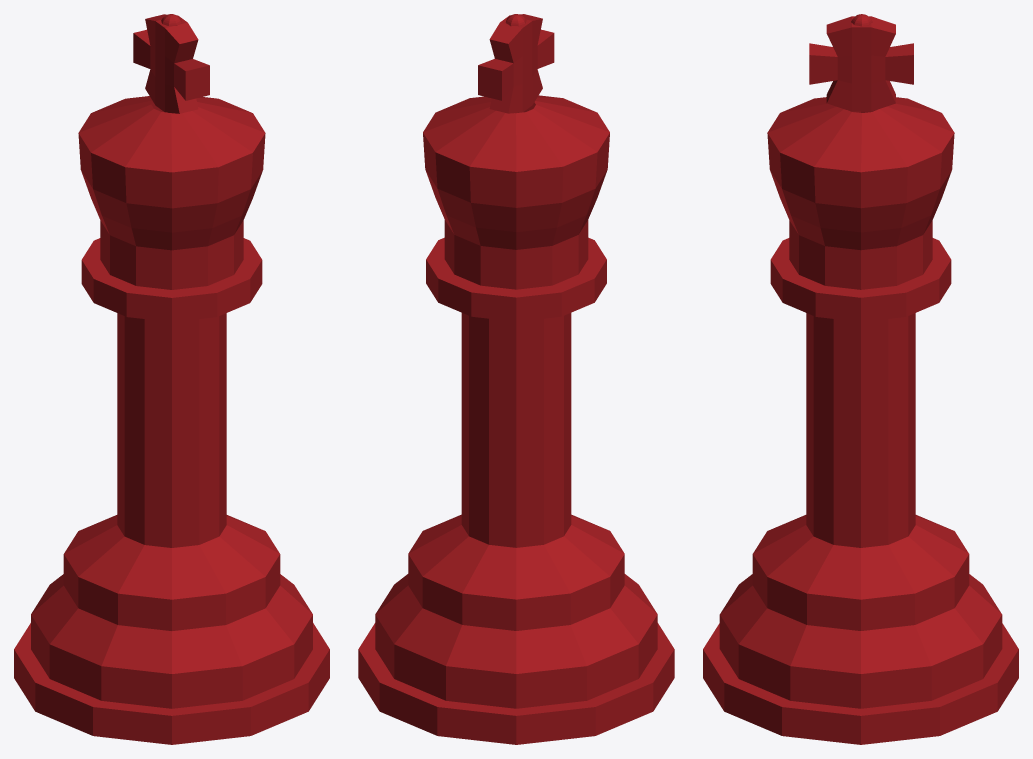
File: lowpoly_k_b.glb
The picture shows the model from 3 angles, left to right: view 1: azimuth 30°, elevation 25°; view 2: azimuth 150°, elevation 25°; view 3: azimuth 270°, elevation 25°; orthographic projection.
Visible parts, largest first — view 1: King.002; view 2: King.002; view 3: King.002.
Part boxes in pixels (x1,y1,x2,y2): King.002: [14, 14, 329, 744]; King.002: [358, 14, 674, 744]; King.002: [703, 14, 1018, 744].
Bounding box in the file's own units: 0.0821 × 0.1901 × 0.0821.
